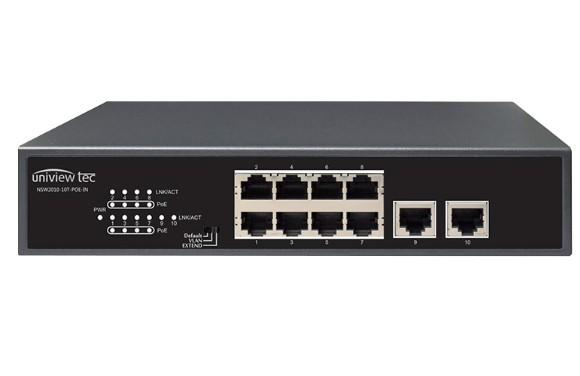NetworkSwitch: (17, 101, 576, 258)
